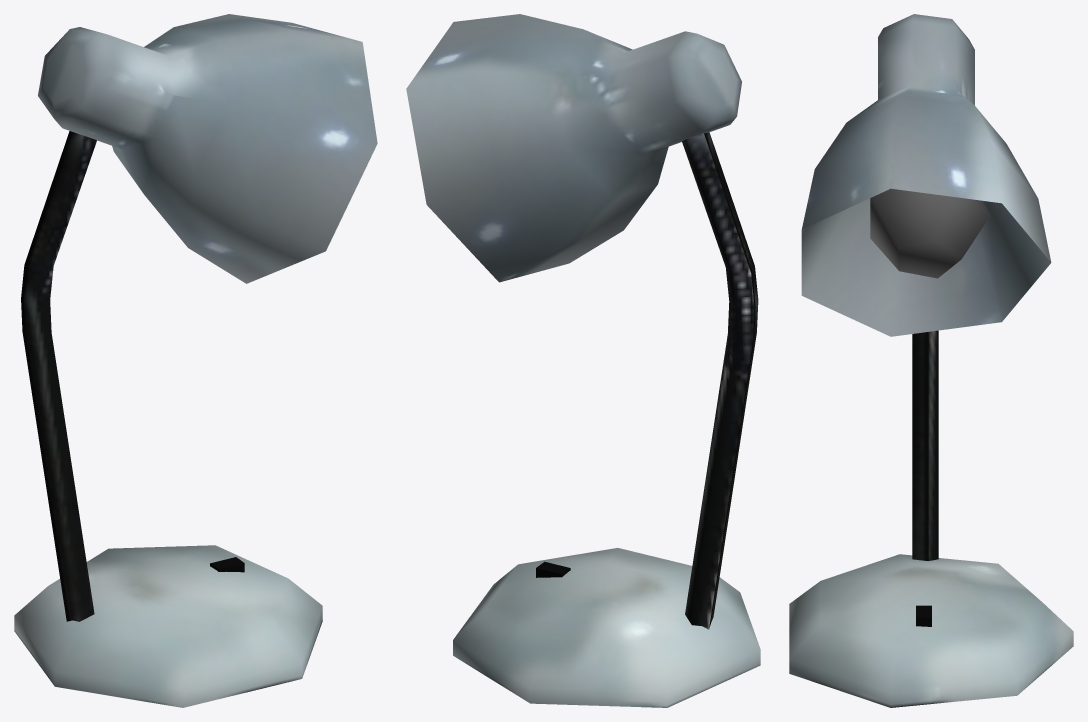
Rendered from DeskLamp2.fbx.
The picture shows the model from 3 angles, left to right: view 1: azimuth 30°, elevation 25°; view 2: azimuth 150°, elevation 25°; view 3: azimuth 270°, elevation 25°; orthographic projection. The views are drawn at different scales.
Visible parts, largest first — view 1: Lamp_02; view 2: Lamp_02; view 3: Lamp_02.
Part boxes in pixels (x1,y1,x2,y2): Lamp_02: (14,14,377,707); Lamp_02: (406,14,760,707); Lamp_02: (789,14,1073,707).
Size of the model in its own units: 32.29 by 60.37 by 26.2.
